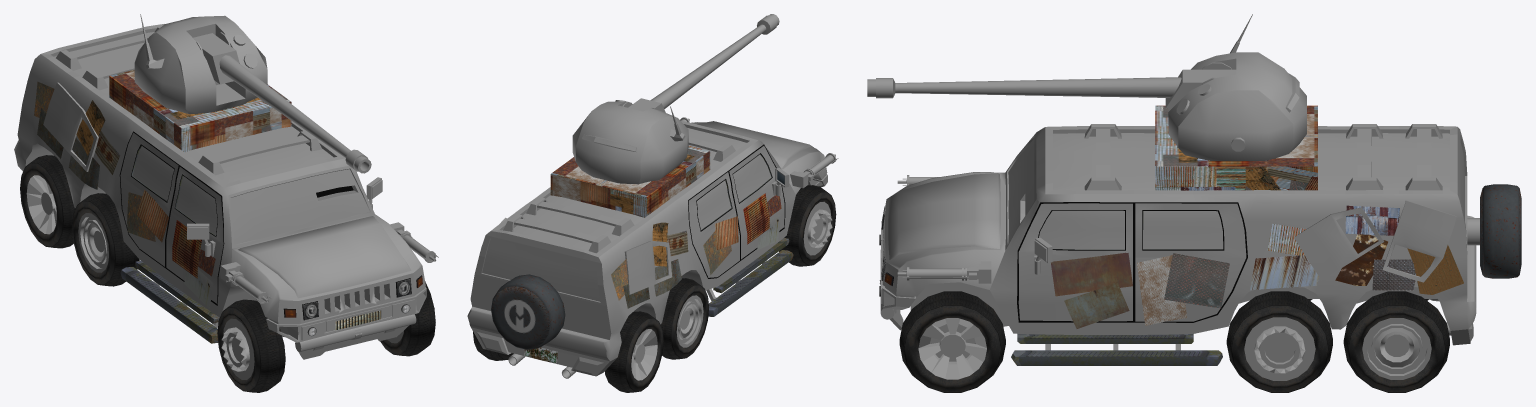
Rendered from Hummer_tank_8.FBX.
3 views of the same model, side by side, from view 1: azimuth 30°, elevation 25°; view 2: azimuth 150°, elevation 25°; view 3: azimuth 270°, elevation 25° (orthographic). The views are drawn at different scales.
Visible parts, largest first — view 1: Hummer_Body, Turret_Protector_HUmmer, SheetMetalSides, Turret_Base_Hummer, FrontHummerTireRight, MidHummerTireRight, RearHummerTireRight, Tank_Barrel_Hummer, FrontHummerTireLeft, Barrel_End_cover_Hummer, Hummer_Right_machine_gun, Hummer_Left_machine_gun; view 2: Hummer_Body, Turret_Protector_HUmmer, SheetMetalSides, Turret_Base_Hummer, RearHummerTireRight, FrontHummerTireRight, MidHummerTireRight, Tank_Barrel_Hummer, Hummer_Right_machine_gun, RearHummerTireLeft; view 3: Hummer_Body, SheetMetalSides, Turret_Protector_HUmmer, FrontHummerTireLeft, MidHummerTireLeft, RearHummerTireLeft, Turret_Base_Hummer, Tank_Barrel_Hummer, Hummer_Left_machine_gun, Barrel_End_cover_Hummer.
Boxes of the visible parts, x1,y1,x2,y2 form: Hummer_Body: [14, 24, 426, 359]; Turret_Protector_HUmmer: [134, 14, 267, 114]; SheetMetalSides: [34, 81, 215, 308]; Turret_Base_Hummer: [109, 70, 291, 152]; FrontHummerTireRight: [217, 299, 285, 392]; MidHummerTireRight: [72, 193, 139, 286]; RearHummerTireRight: [20, 155, 75, 248]; Tank_Barrel_Hummer: [219, 55, 371, 173]; FrontHummerTireLeft: [380, 281, 435, 356]; Barrel_End_cover_Hummer: [193, 33, 239, 84]; Hummer_Right_machine_gun: [220, 262, 271, 303]; Hummer_Left_machine_gun: [390, 222, 438, 262]; Hummer_Body: [467, 120, 827, 378]; Turret_Protector_HUmmer: [572, 100, 688, 184]; SheetMetalSides: [611, 193, 781, 308]; Turret_Base_Hummer: [550, 146, 710, 217]; RearHummerTireRight: [605, 311, 663, 392]; FrontHummerTireRight: [779, 185, 836, 266]; MidHummerTireRight: [660, 278, 708, 359]; Tank_Barrel_Hummer: [650, 14, 779, 108]; Hummer_Right_machine_gun: [790, 153, 838, 188]; RearHummerTireLeft: [473, 332, 513, 360]; Hummer_Body: [879, 124, 1521, 365]; SheetMetalSides: [1051, 205, 1463, 328]; Turret_Protector_HUmmer: [1168, 14, 1306, 160]; FrontHummerTireLeft: [899, 291, 1005, 392]; MidHummerTireLeft: [1226, 291, 1332, 392]; RearHummerTireLeft: [1343, 291, 1449, 392]; Turret_Base_Hummer: [1155, 105, 1317, 190]; Tank_Barrel_Hummer: [867, 77, 1181, 98]; Hummer_Left_machine_gun: [897, 261, 991, 283]; Barrel_End_cover_Hummer: [1165, 69, 1236, 108].
Size of the model in its own units: 127 by 169 by 328.
